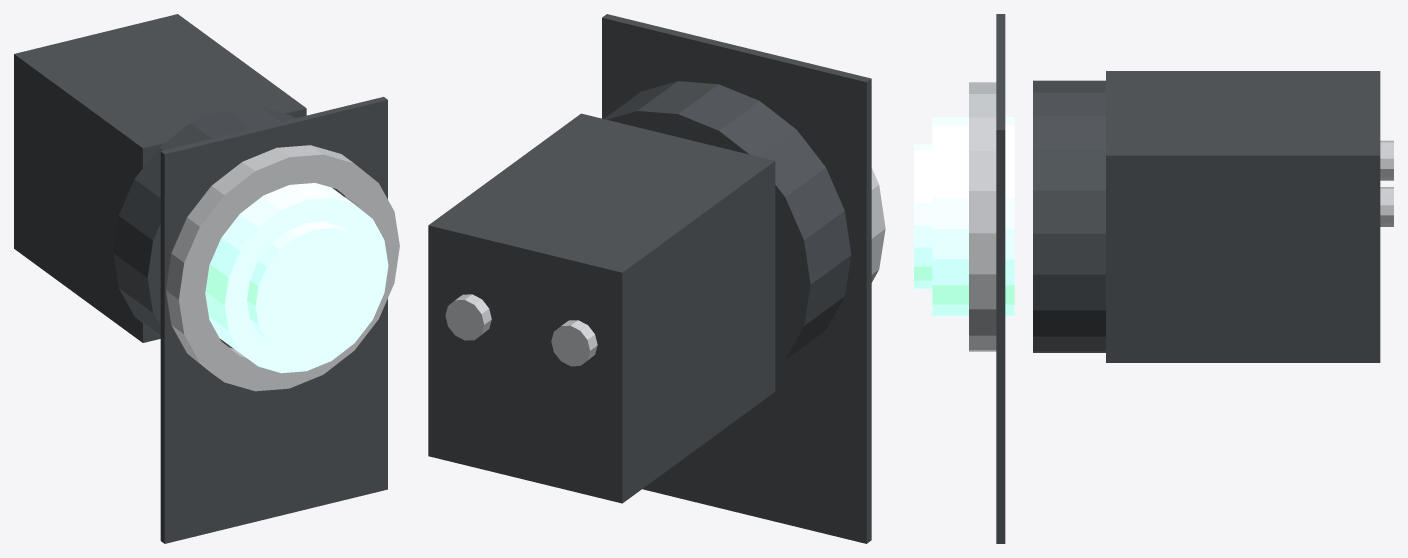
File: op-pilot-22.glb
The picture shows the model from 3 angles, left to right: view 1: azimuth 30°, elevation 25°; view 2: azimuth 150°, elevation 25°; view 3: azimuth 270°, elevation 25°; orthographic projection. The views are drawn at different scales.
Parts seen in each view (by area): view 1: body, self; view 2: body; view 3: body, self.
Boxes of the visible parts, x1,y1,x2,y2 form: body: (14, 14, 399, 543); self: (205, 183, 388, 373); body: (428, 14, 885, 543); body: (969, 14, 1393, 543); self: (914, 117, 1014, 316).
Size of what is drawn, in the model's own units: 0.03 by 0.05 by 0.0525.
